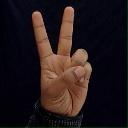hand: (31, 5, 92, 117)
